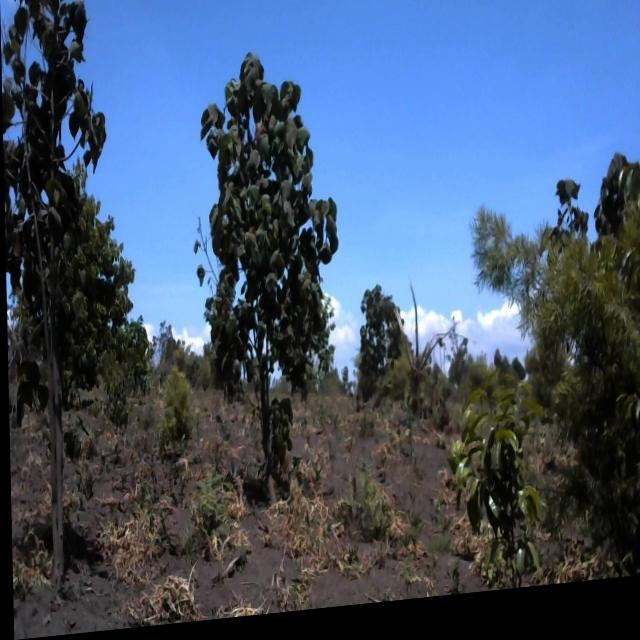Hass Avocado: (437, 358, 552, 605)
Podocarpus falcatus: (472, 199, 640, 563)
Vitex keniensis: (202, 60, 343, 470), (3, 0, 106, 560)
other: (351, 280, 413, 424)
